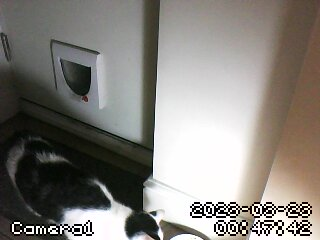bad: (5, 138, 166, 240)
